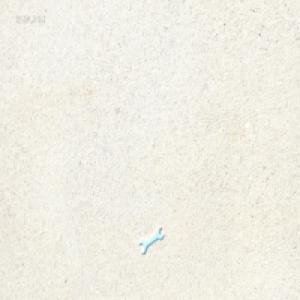Wrench: (139, 226, 163, 255)
